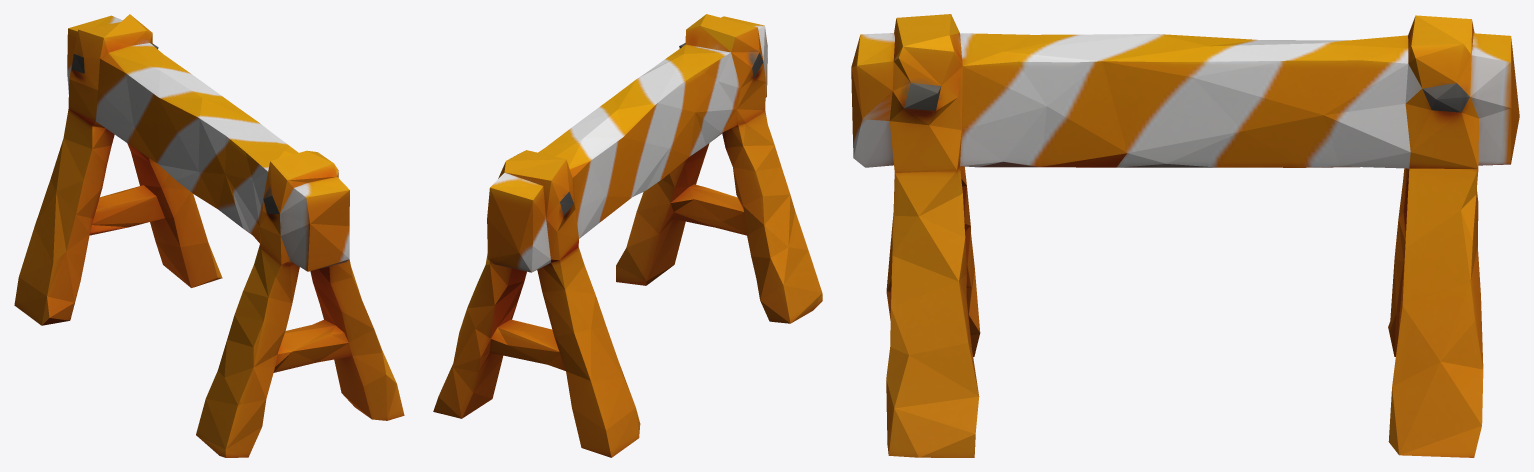
The model's file is road_barrier.glb.
3 views of the same model, side by side, from view 1: azimuth 30°, elevation 25°; view 2: azimuth 150°, elevation 25°; view 3: azimuth 270°, elevation 25° (orthographic). The views are drawn at different scales.
Visible parts, largest first — view 1: geometry_0; view 2: geometry_0; view 3: geometry_0.
Boxes of the visible parts, left/top/right/bottom form: geometry_0: left=14, top=14, right=404, bottom=457; geometry_0: left=433, top=14, right=822, bottom=457; geometry_0: left=851, top=14, right=1519, bottom=457.
Bounding box in the file's own units: 0.4375 × 0.6215 × 1.
1 material, 1 textured.
